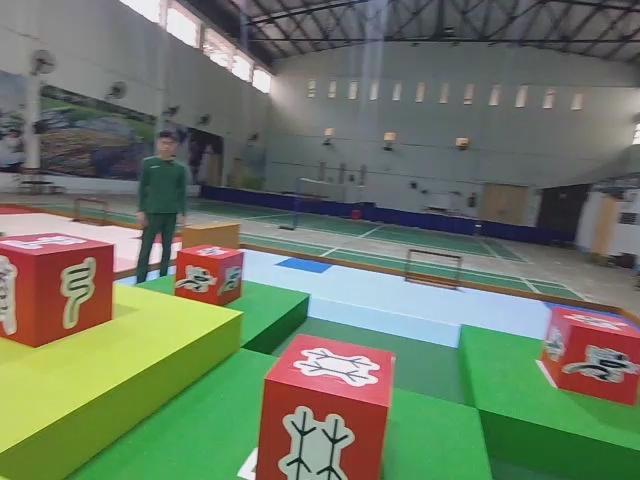R1: (534, 305, 640, 407), (165, 240, 247, 309)
R2 Fake: (0, 233, 120, 348)
R2 Real: (259, 328, 396, 480)
